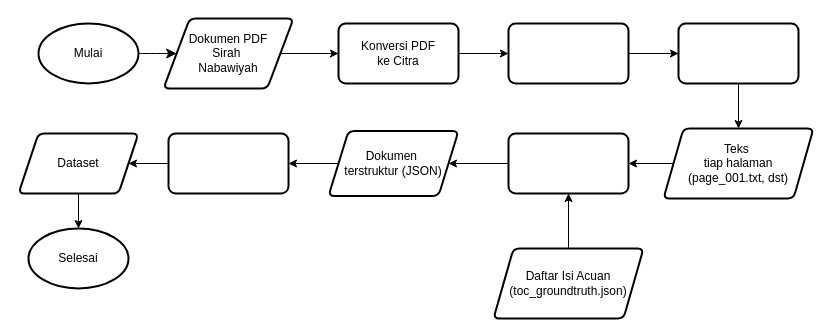
Some shapes in this 831 by 336 pixel diagram are drawn without their labels. The shapes that lost their labels are listed below. From the top down, each one's centre as x and y in pixels, then its label:
At point (568, 53): "Praproses Citra".
At point (738, 53): "Ekstraksi Teks dengan OCR".
At point (228, 163): "Ekspor format ke CSV".
At point (568, 163): "Ekstraksi Dokumen".
